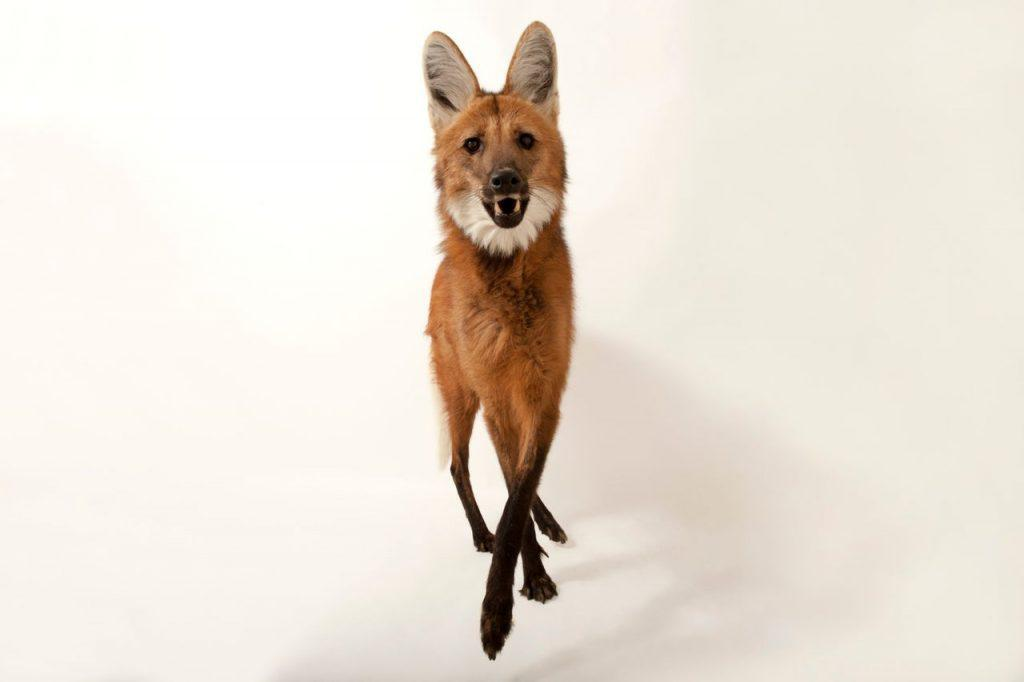LoboGuara: (399, 18, 600, 669)
